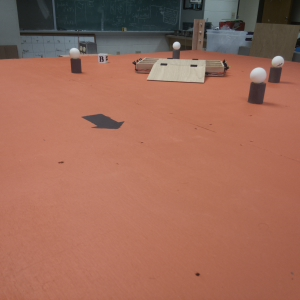obstacle: (246, 66, 266, 104), (69, 46, 83, 74), (270, 56, 283, 82), (172, 40, 183, 58)
side: (208, 58, 229, 76), (133, 55, 152, 72)
slope: (156, 62, 206, 82)
